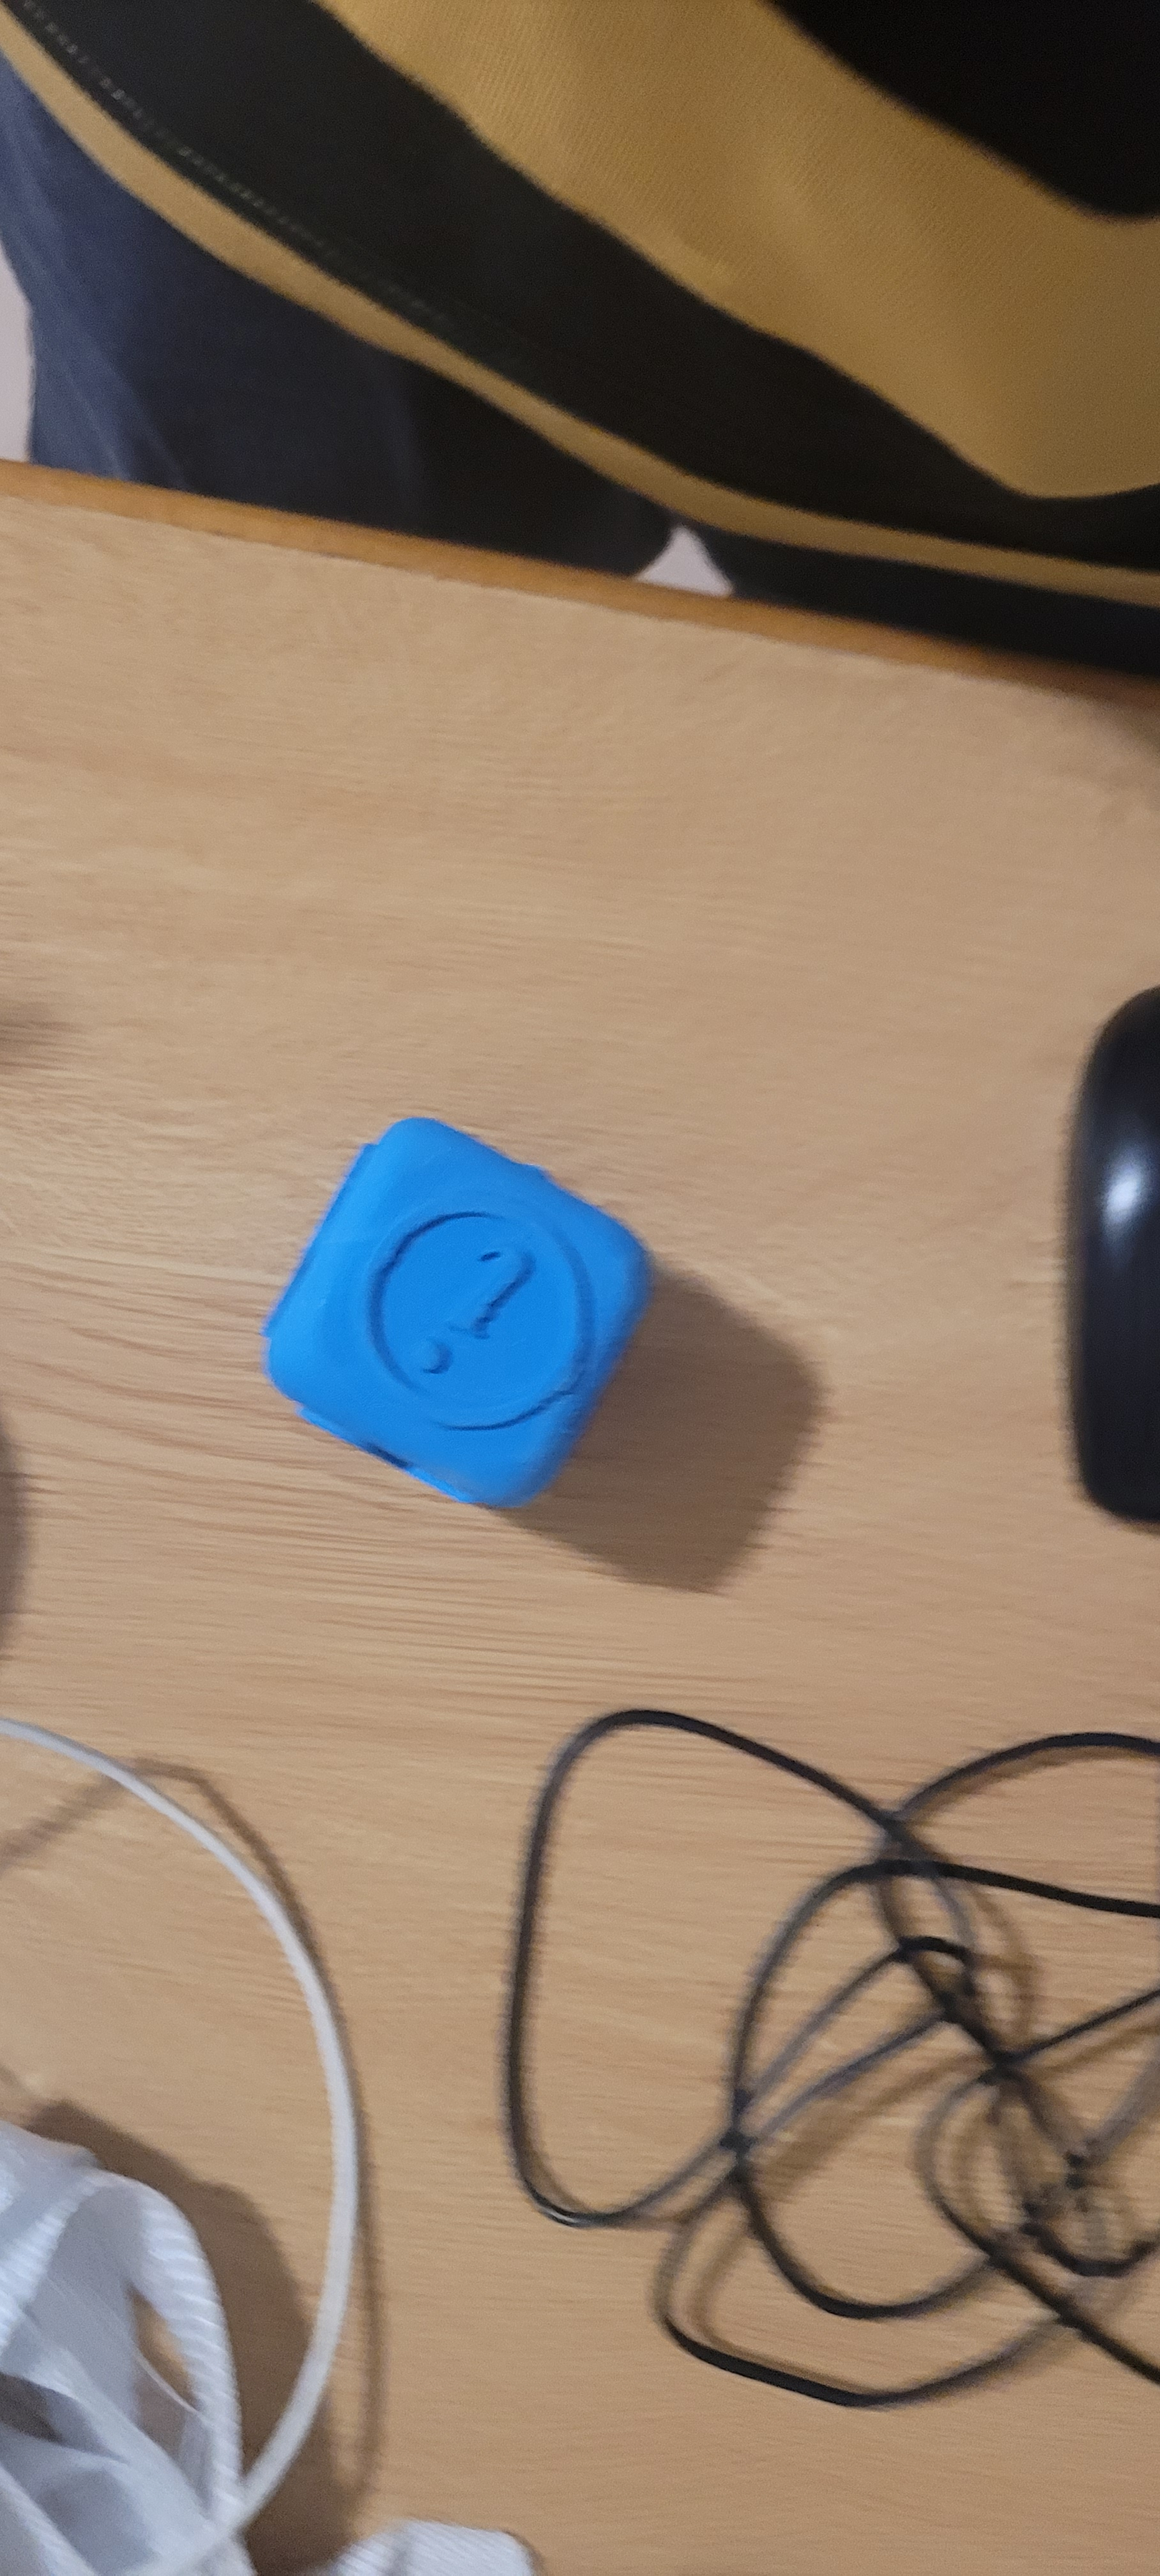Info: (373, 1138, 615, 1457)
